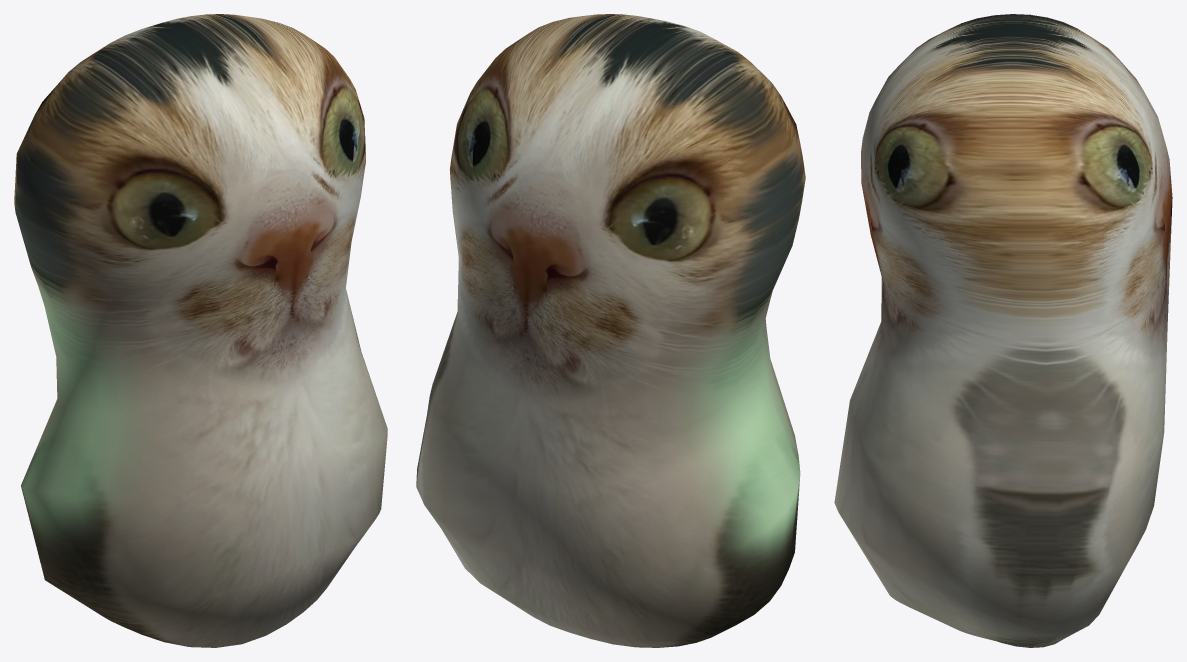
Rendered from bowling cat.fbx.
3 renders of one model, left to right at view 1: azimuth 30°, elevation 25°; view 2: azimuth 150°, elevation 25°; view 3: azimuth 270°, elevation 25°, orthographic. The views are drawn at different scales.
Parts seen in each view (by area): view 1: Sphere; view 2: Sphere; view 3: Sphere.
Part boxes in pixels (x1,y1,x2,y2): Sphere: (14, 14, 387, 647); Sphere: (416, 14, 805, 647); Sphere: (834, 14, 1172, 647).
Bounding box in the file's own units: 253 × 414 × 217.
Materials: 1 (1 with a texture image).
